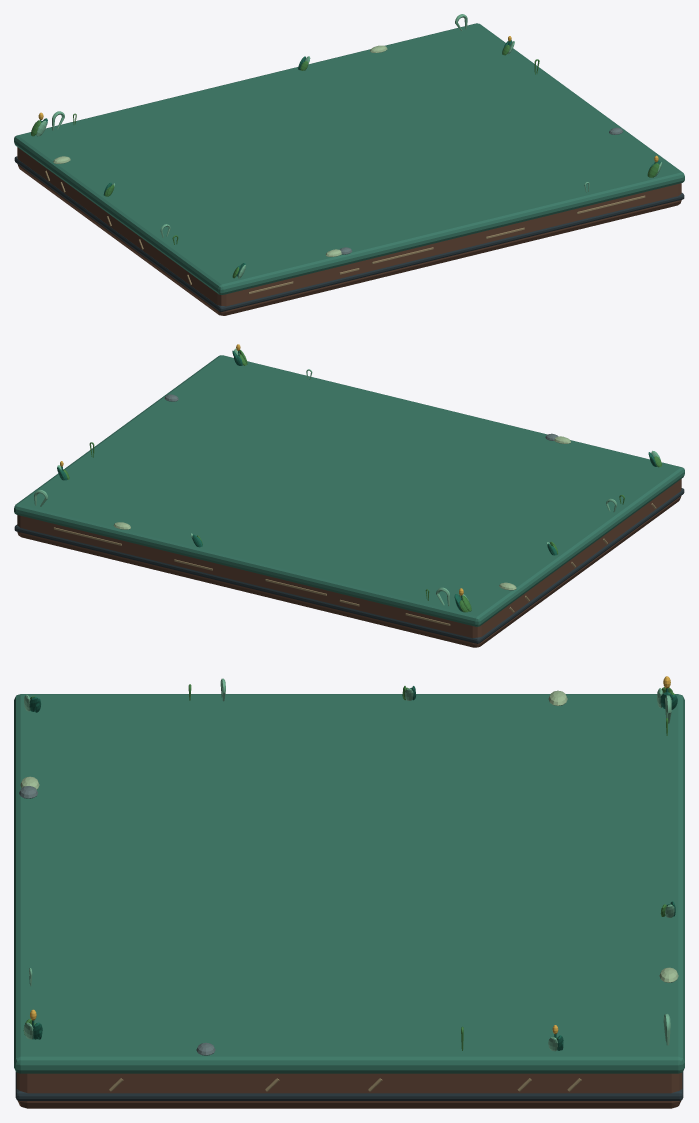
Rendered from PL_MeadowYard.glb.
3 views of the same model, one above another, from view 1: azimuth 30°, elevation 25°; view 2: azimuth 150°, elevation 25°; view 3: azimuth 270°, elevation 25° (orthographic). The views are drawn at different scales.
Parts seen in each view (by area): view 1: ROOT_MeadowYard_Surface; view 2: ROOT_MeadowYard_Surface; view 3: ROOT_MeadowYard_Surface.
Boxes of the visible parts, <box> form: ROOT_MeadowYard_Surface: <box>14,14,684,315</box>; ROOT_MeadowYard_Surface: <box>14,344,684,647</box>; ROOT_MeadowYard_Surface: <box>14,676,684,1108</box>.
Bounding box in the file's own units: 13.1 × 1.46 × 10.1.
